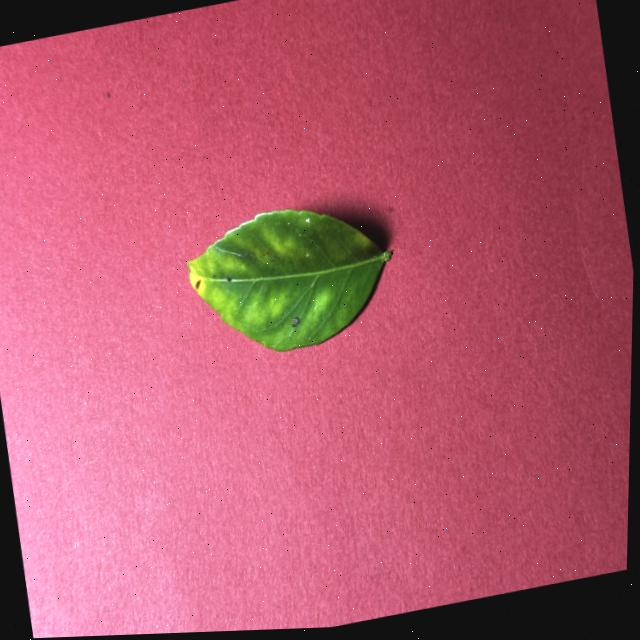greening: (187, 210, 390, 351)
